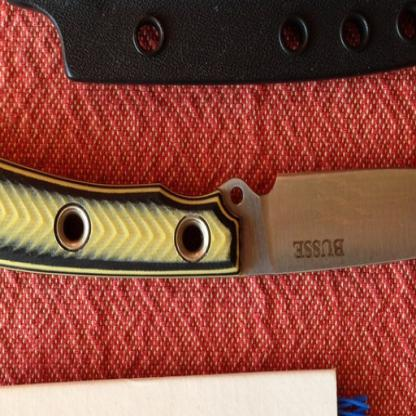knife: (0, 119, 415, 284)
